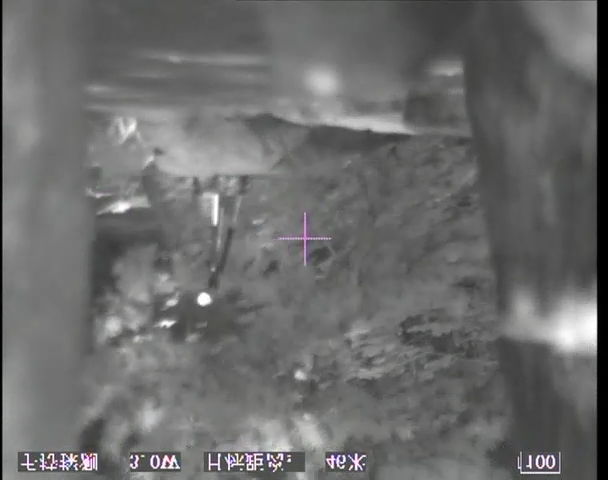my: (195, 291, 212, 308)
